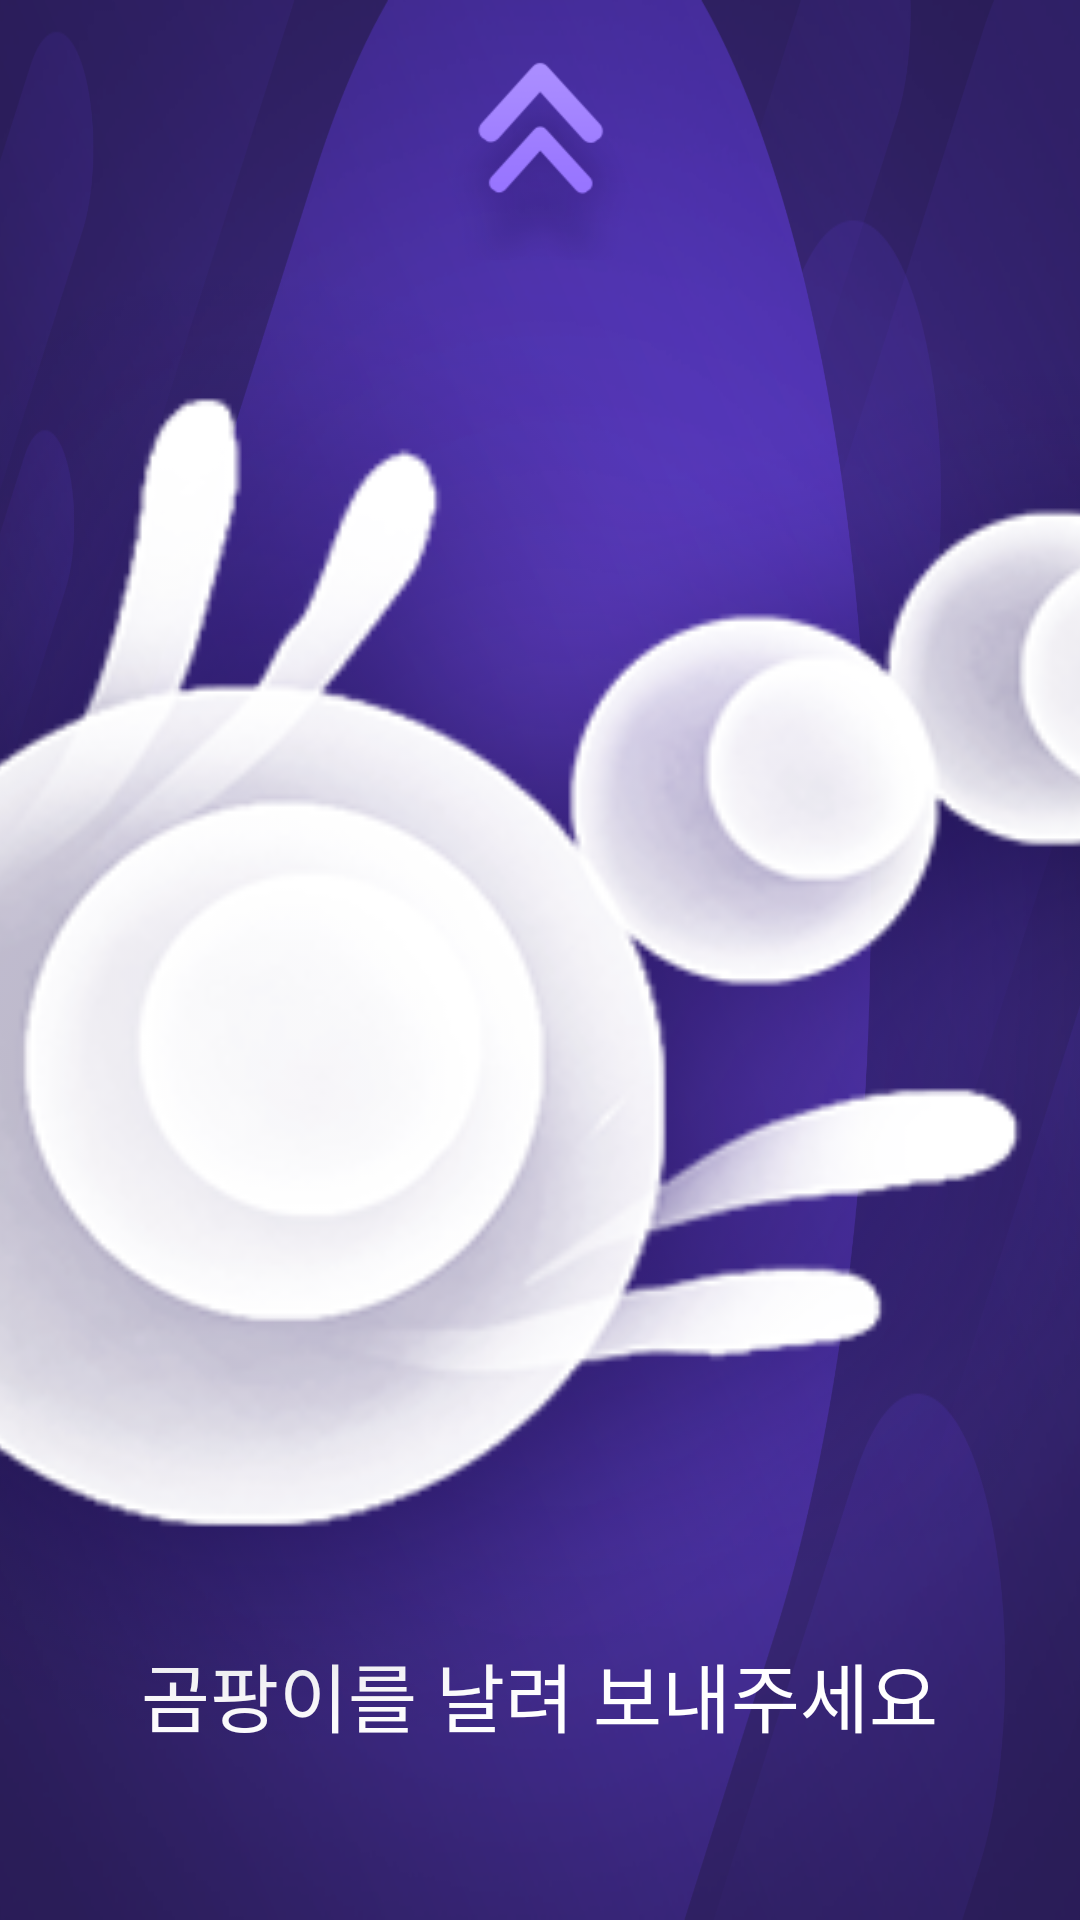

Icons on this 1080*1920 Android screen, each with its box as [left=x1, top=y1, right=x2, bottom=y2]:
arrow: [left=478, top=63, right=603, bottom=194]
